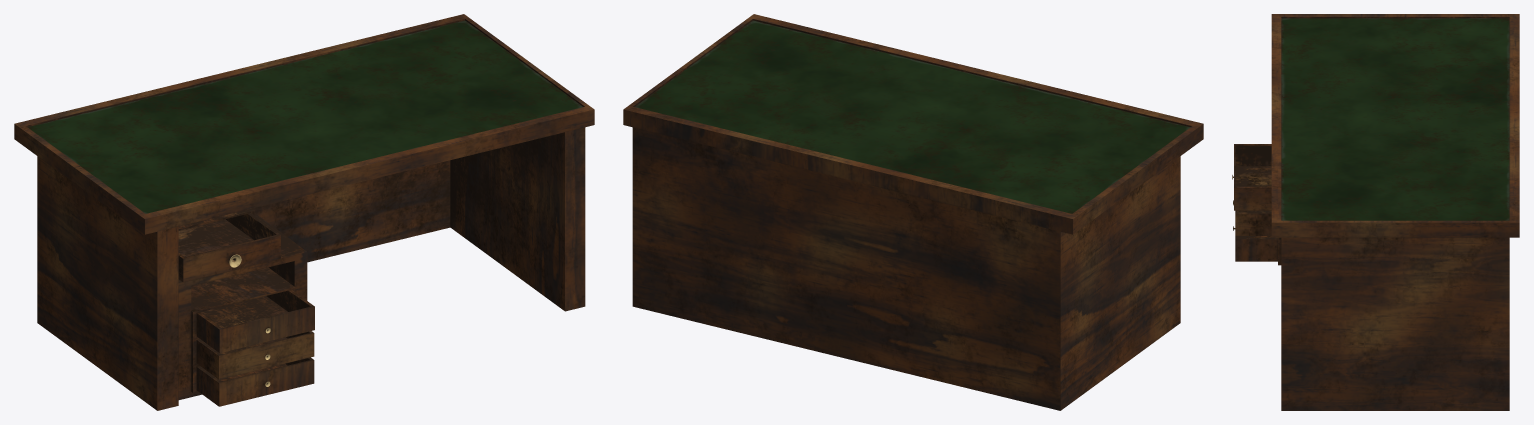
Rendered from MansionHakanDesk.fbx.
3 renders of one model, left to right at view 1: azimuth 30°, elevation 25°; view 2: azimuth 150°, elevation 25°; view 3: azimuth 270°, elevation 25°, orthographic. The views are drawn at different scales.
Parts seen in each view (by area): view 1: Cube, In drawer, In drawer.001, In drawer.003, In drawer.002, drawer.001; view 2: Cube; view 3: Cube, In drawer.001, In drawer.003, In drawer.002.
Part boxes in pixels (box(x1,y1,x2,y2)): Cube: box(14, 14, 594, 410); In drawer: box(178, 213, 280, 282); In drawer.001: box(196, 289, 314, 352); In drawer.003: box(196, 357, 314, 406); In drawer.002: box(196, 331, 314, 379); drawer.001: box(191, 267, 295, 338); Cube: box(623, 14, 1203, 410); Cube: box(1271, 14, 1519, 410); In drawer.001: box(1232, 144, 1271, 210); In drawer.003: box(1233, 226, 1277, 261); In drawer.002: box(1233, 200, 1271, 235).
Bounding box in the file's own units: 644 × 274 × 375.
Materials: 1 (1 with a texture image).
